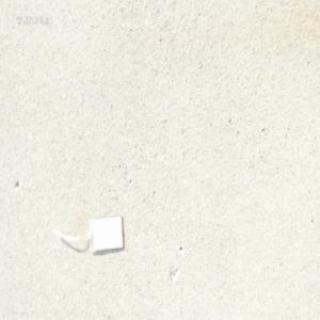LuggageTagtrack_idkeyframe: (54, 210, 128, 255)
